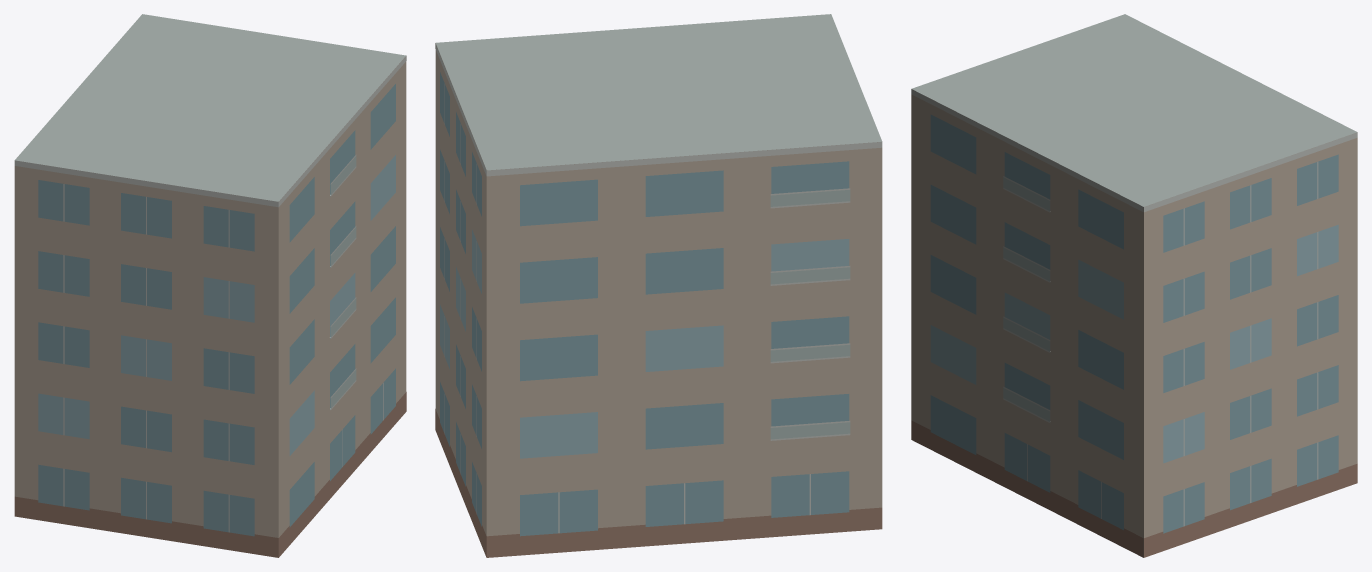
Rendered from survey-upis-32866274.glb.
3 views of the same model, side by side, from view 1: azimuth 30°, elevation 25°; view 2: azimuth 150°, elevation 25°; view 3: azimuth 270°, elevation 25° (orthographic). The views are drawn at different scales.
Parts seen in each view (by area): view 1: survey-upis-32866274.tmp; view 2: survey-upis-32866274.tmp; view 3: survey-upis-32866274.tmp.
Part boxes in pixels (bbox=[...]): survey-upis-32866274.tmp: bbox=[14, 14, 406, 557]; survey-upis-32866274.tmp: bbox=[435, 14, 882, 557]; survey-upis-32866274.tmp: bbox=[911, 14, 1357, 557].
Size of the model in its own units: 18.64 by 15.8 by 18.23.
